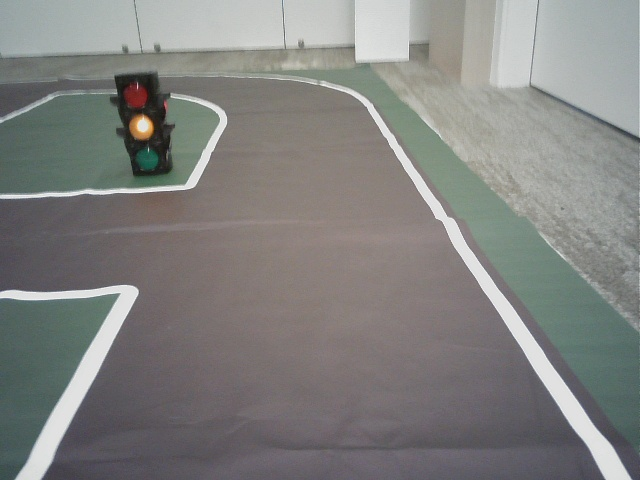yellow: (121, 76, 161, 170)
